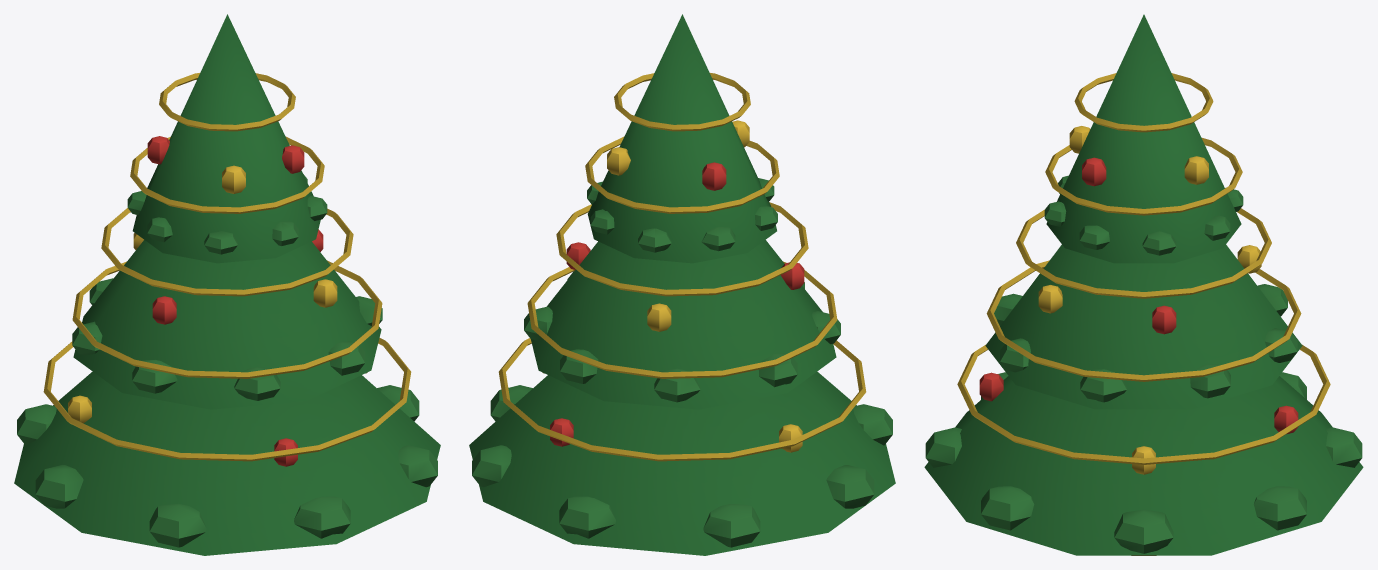
File: pr-xmastree.glb
The picture shows the model from 3 angles, left to right: view 1: azimuth 30°, elevation 25°; view 2: azimuth 150°, elevation 25°; view 3: azimuth 270°, elevation 25°; orthographic projection.
Size of the model in its own units: 1.83 by 2.38 by 1.8.
